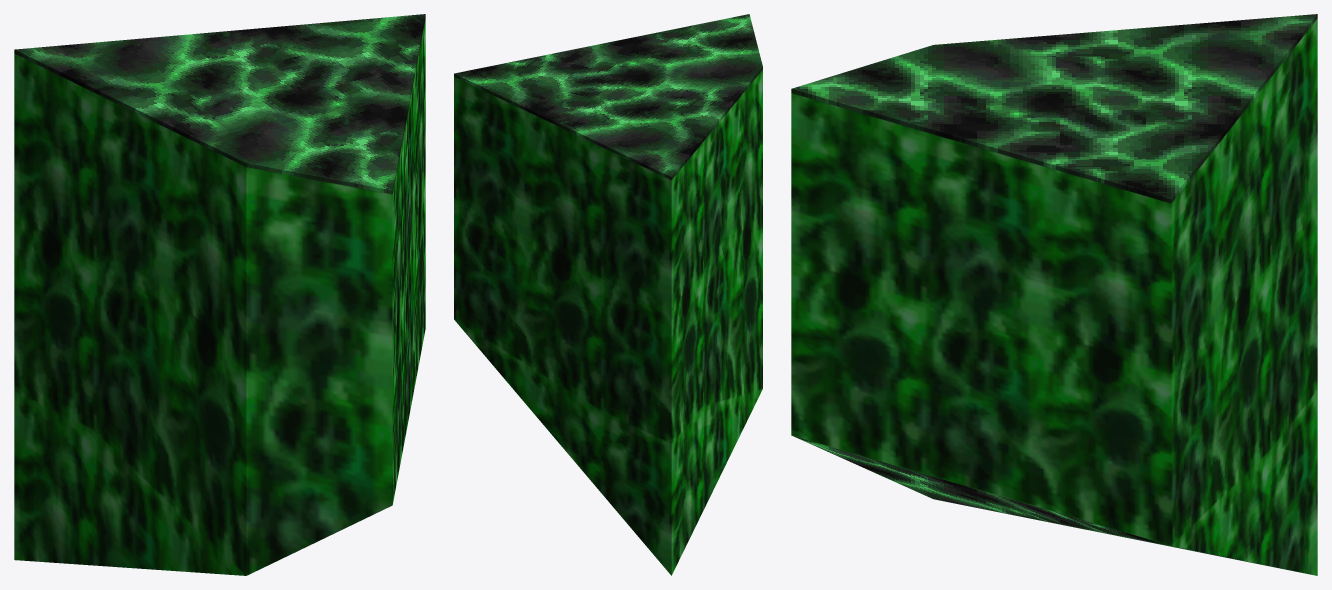
The picture shows the model from 3 angles, left to right: view 1: azimuth 30°, elevation 25°; view 2: azimuth 150°, elevation 25°; view 3: azimuth 270°, elevation 25°; orthographic projection. The views are drawn at different scales.
Parts seen in each view (by area): view 1: kb3_f; view 2: kb3_f; view 3: kb3_f.
Part boxes in pixels (box(x1,y1,x2,y2)): kb3_f: box(14, 14, 425, 575); kb3_f: box(454, 14, 762, 575); kb3_f: box(791, 14, 1317, 575).
Bounding box in the file's own units: 231 × 326 × 277.
2 materials, 2 textured.
